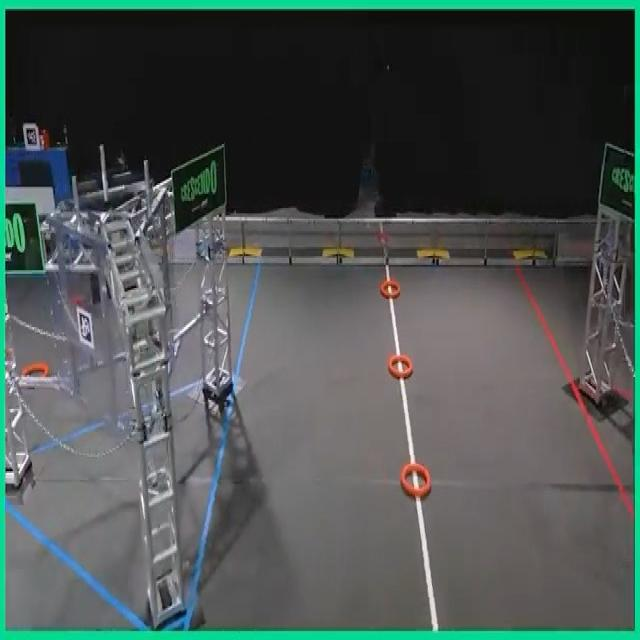note: (401, 464, 433, 500), (387, 353, 413, 379), (379, 277, 401, 300), (22, 360, 48, 378)
